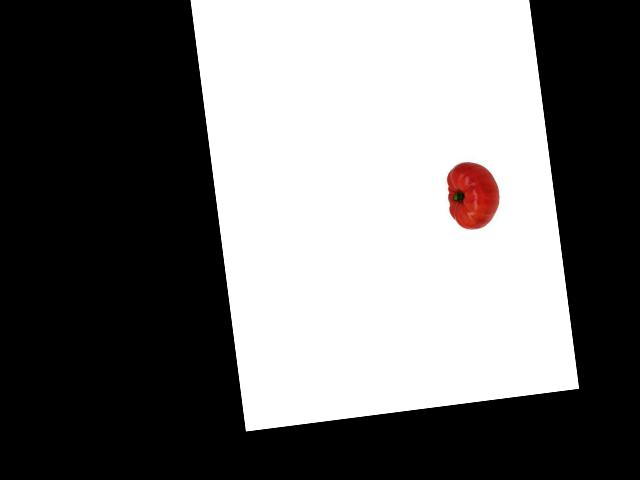tomato: (445, 159, 503, 232)
